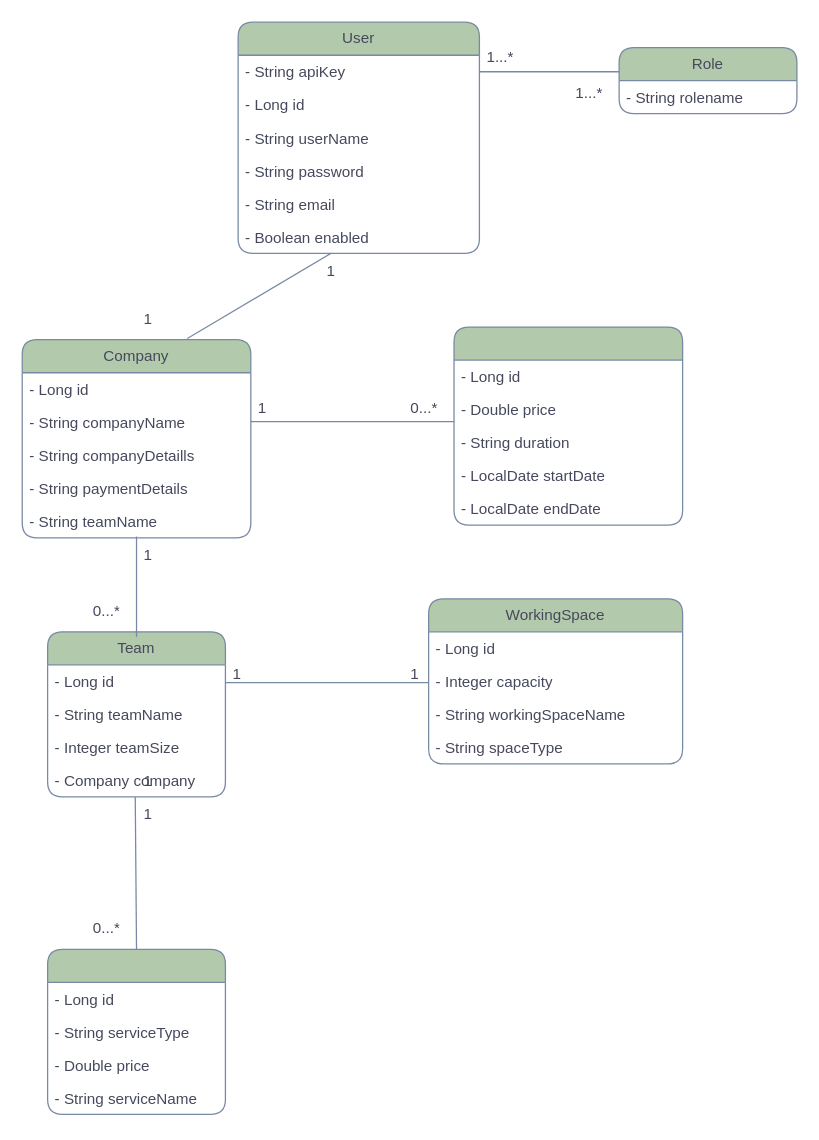
This 819x1140 diagram has some shape labels left out. Each missing label, with the box of its shape:
ExtraService: (46, 948, 225, 1114)
Subscription: (453, 326, 683, 525)
